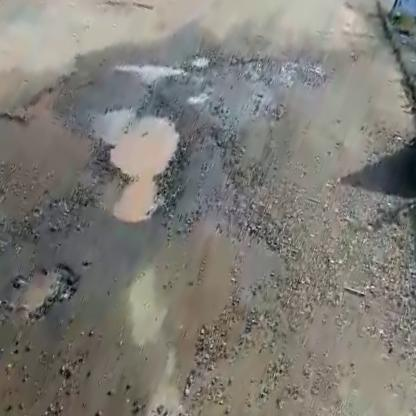pothole: (62, 89, 198, 228), (1, 248, 80, 332), (115, 46, 185, 95)
